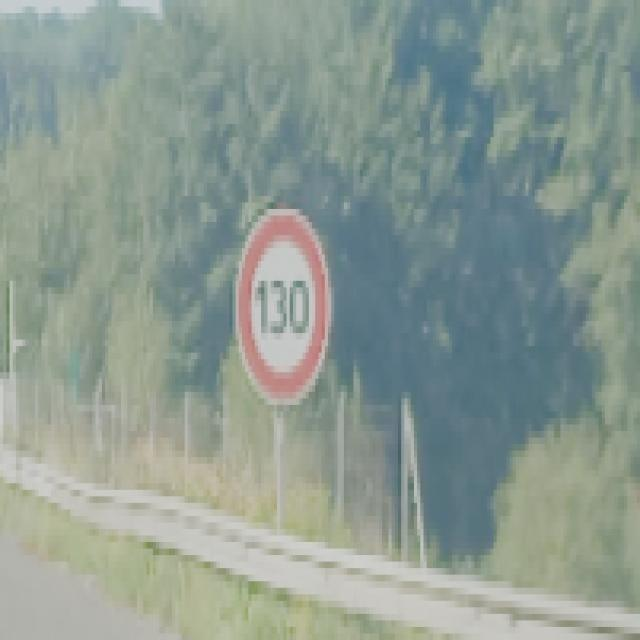speed_130: (234, 207, 333, 410)
